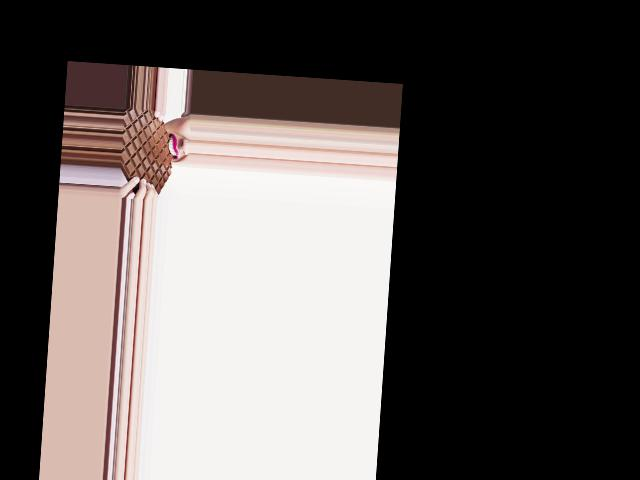chocolate: (118, 108, 177, 202)
